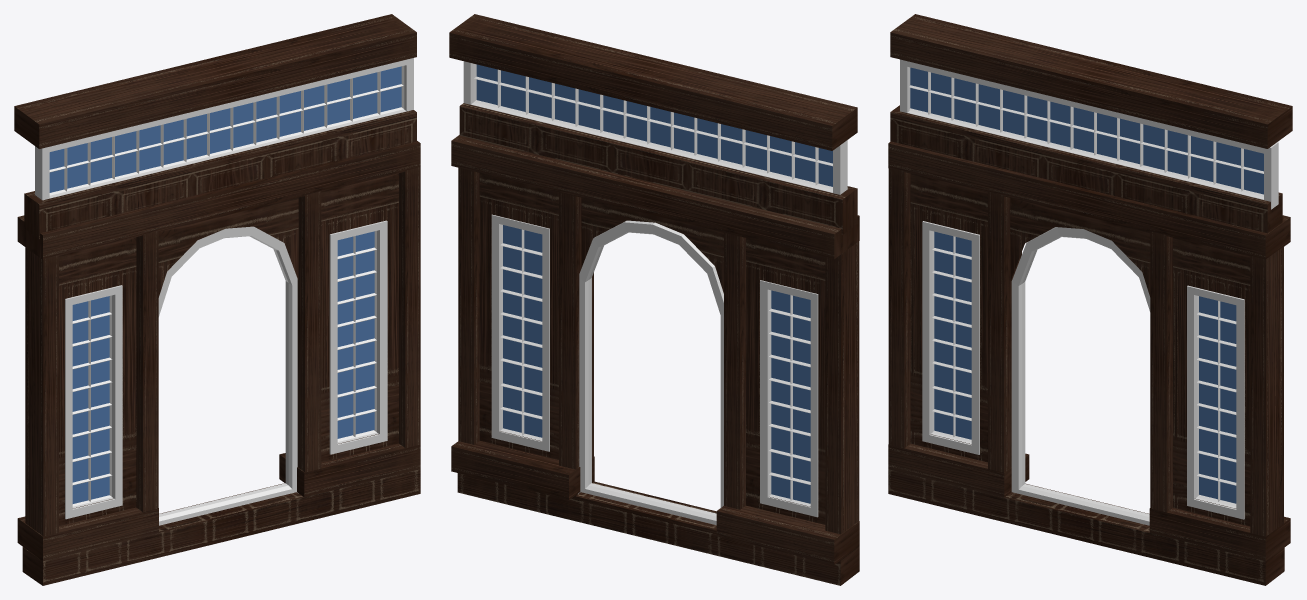
The model's file is walls (3).fbx.
The picture shows the model from 3 angles, left to right: view 1: azimuth 30°, elevation 25°; view 2: azimuth 150°, elevation 25°; view 3: azimuth 330°, elevation 25°; orthographic projection.
Visible parts, largest first — view 1: TripleWindow_Wallpiece002, Glass pane002, WindowFrames002, GlassWindowFrame049; view 2: TripleWindow_Wallpiece002, Glass pane002, WindowFrames002, GlassWindowFrame049; view 3: TripleWindow_Wallpiece002, Glass pane002, WindowFrames002, GlassWindowFrame049.
Boxes of the visible parts, x1,y1,x2,y2 form: TripleWindow_Wallpiece002: [14, 14, 420, 585]; Glass pane002: [49, 66, 401, 503]; WindowFrames002: [35, 58, 413, 525]; GlassWindowFrame049: [49, 66, 404, 506]; TripleWindow_Wallpiece002: [449, 14, 859, 585]; Glass pane002: [476, 64, 832, 503]; WindowFrames002: [463, 61, 847, 525]; GlassWindowFrame049: [473, 64, 832, 506]; TripleWindow_Wallpiece002: [888, 14, 1292, 585]; Glass pane002: [910, 67, 1263, 503]; WindowFrames002: [900, 59, 1278, 525]; GlassWindowFrame049: [909, 72, 1263, 506].
Size of the model in its own units: 298 by 345 by 37.96.
